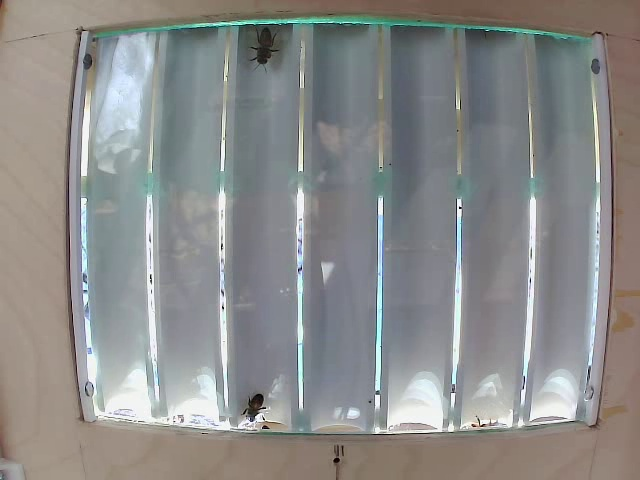bee: (248, 25, 288, 75), (238, 379, 274, 425)
